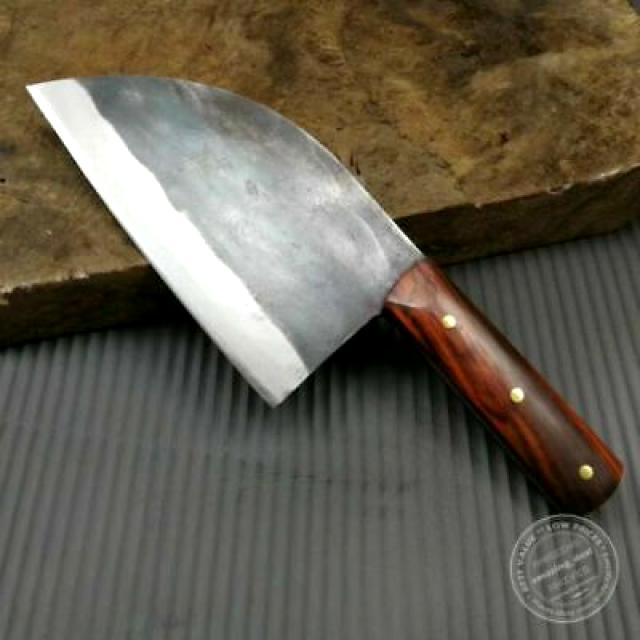cleaver: (26, 68, 613, 513)
